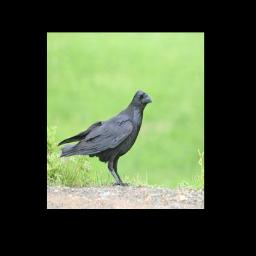Crow: (56, 89, 153, 187)
